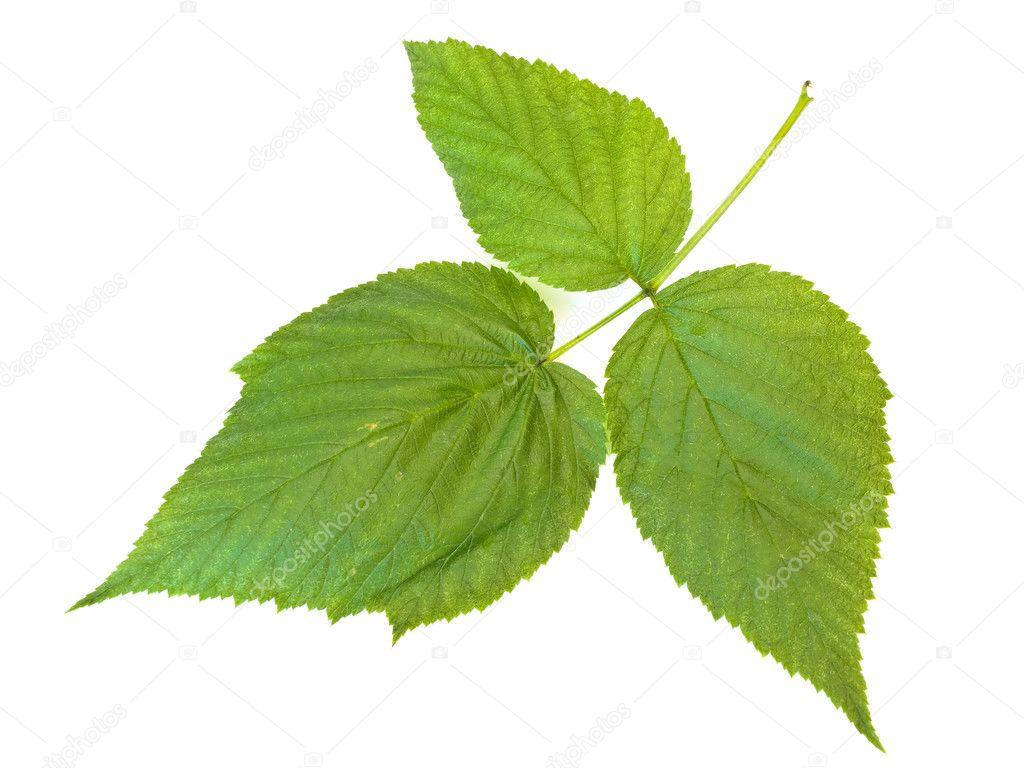Raspberry leaf: (60, 262, 612, 644), (605, 265, 894, 757), (402, 37, 699, 298)
